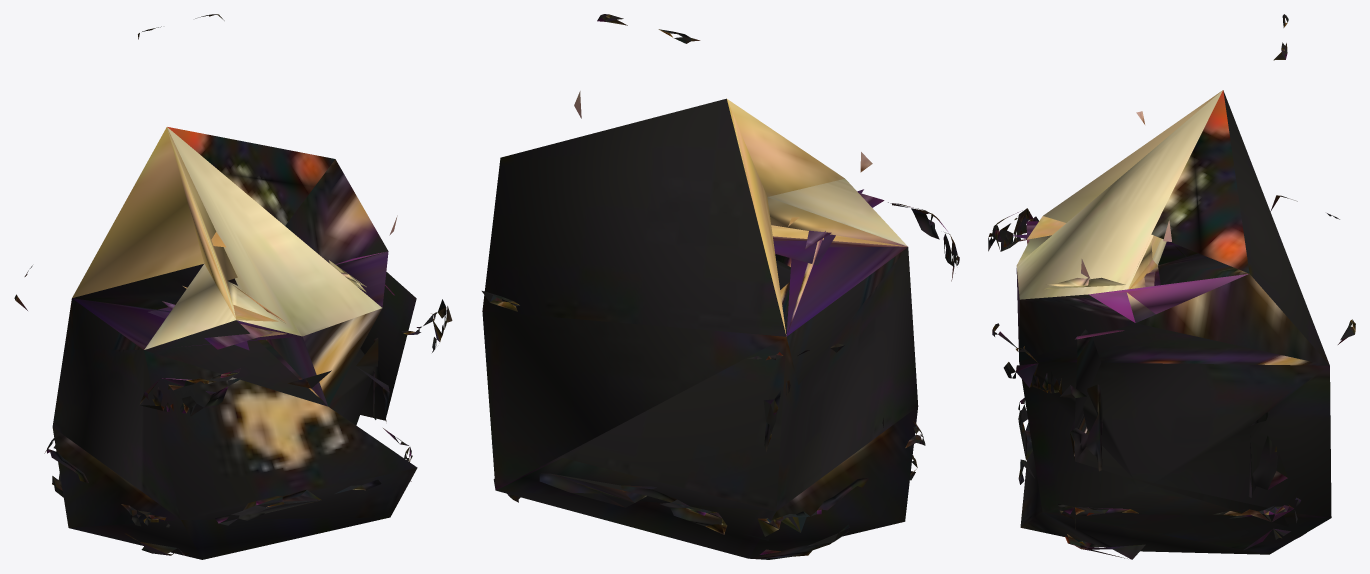
The model's file is lg-necromancer-altar.glb.
3 renders of one model, left to right at view 1: azimuth 30°, elevation 25°; view 2: azimuth 150°, elevation 25°; view 3: azimuth 270°, elevation 25°, orthographic. The views are drawn at different scales.
Parts seen in each view (by area): view 1: geometry_0; view 2: geometry_0; view 3: geometry_0.
Boxes of the visible parts, <box> form: geometry_0: <box>14,14,452,559</box>; geometry_0: <box>482,14,959,559</box>; geometry_0: <box>988,14,1355,559</box>.
Bounding box in the file's own units: 0.815 × 1 × 0.7331.
Materials: 1 (1 with a texture image).
